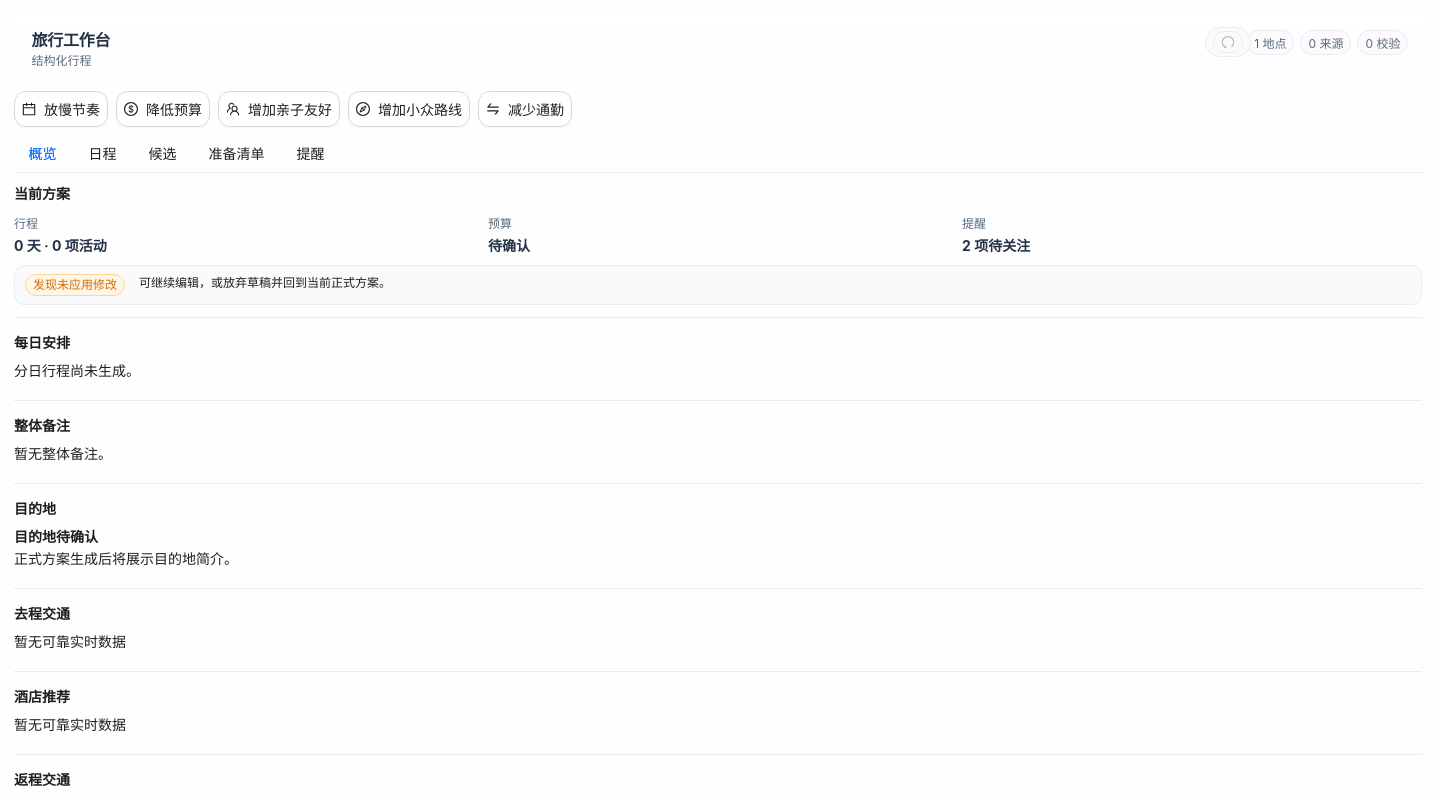
TripWorkspace › keeps checklist and reservation reminders in their own fixed views
expect the text "发现未应用修改" is shown: met, box [25,274,125,296]
Click the tab "准备清单" at (236, 154), box [208,143,264,165]
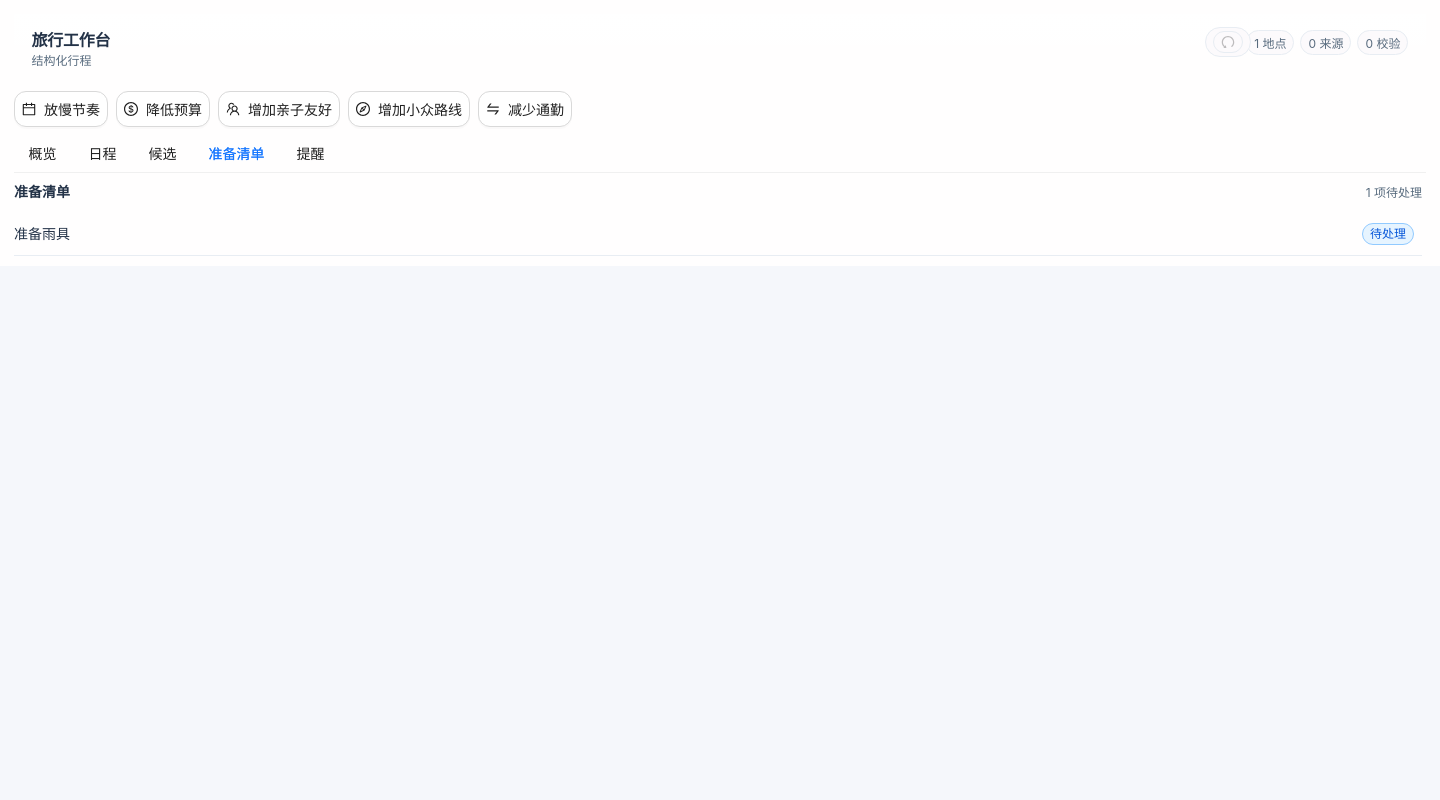
expect the text "确认博物馆预约" is not shown: met
expect the text "准备雨具" is shown: met, box [14,223,70,245]
Click the tab "提醒" at (310, 154), box [296,143,324,165]
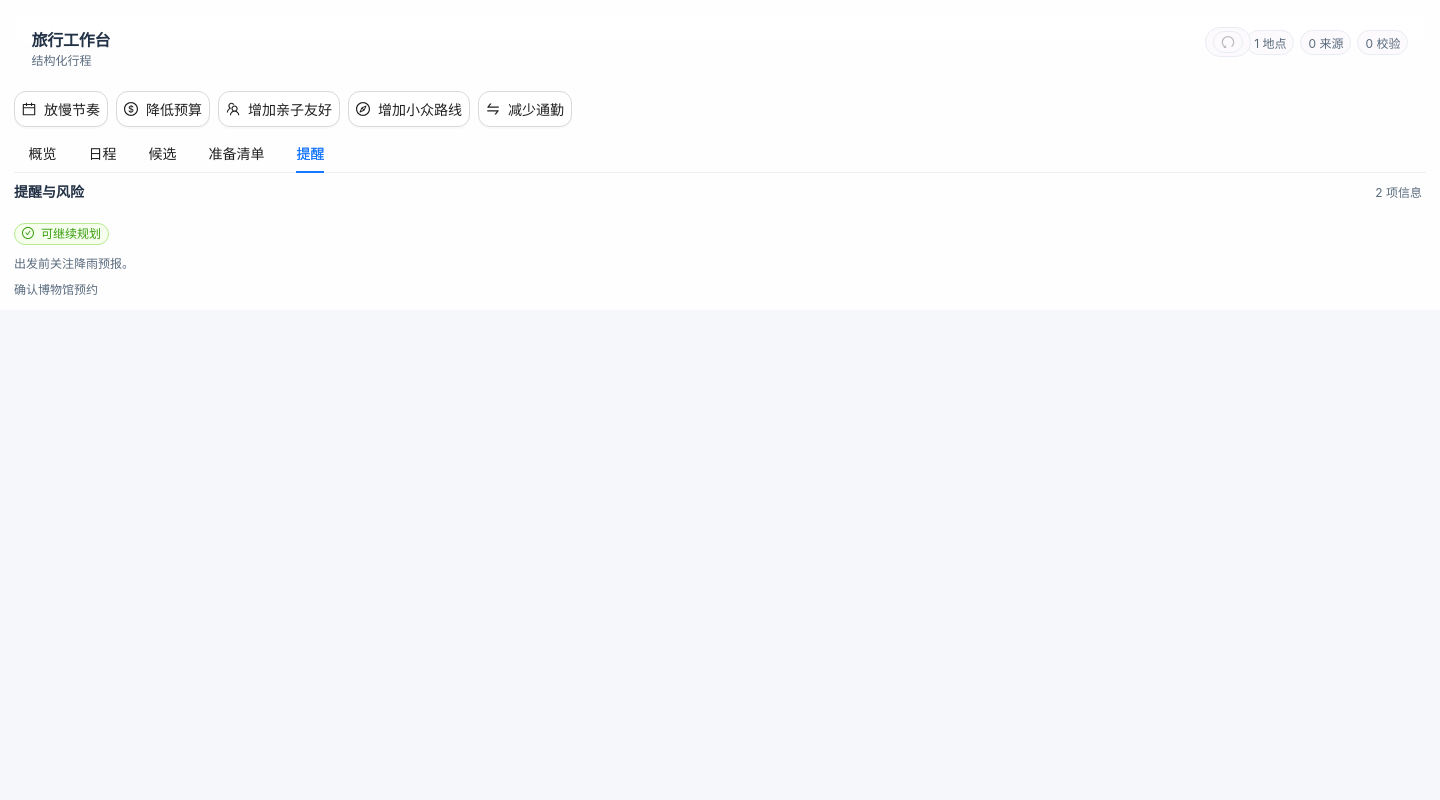
expect the text "确认博物馆预约" is shown: met, box [14,282,98,297]
expect the text "出发前关注降雨预报。" is shown: met, box [14,256,134,271]
